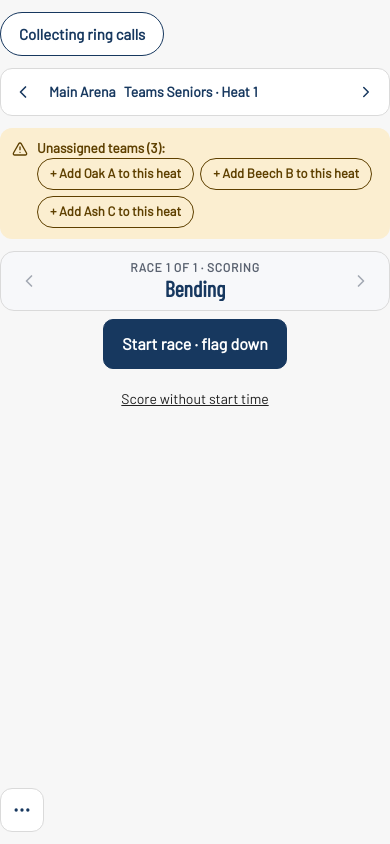
Test case: SessionPage › who may score › shows the scoring view, the organiser tools, and no score record or sign-off, to someone who can manage this competition
The image size is (390, 844).
Expected: the button "Set up heats" is not shown
Click the button named "Race tools" at (22, 810), box [0,788,44,832]
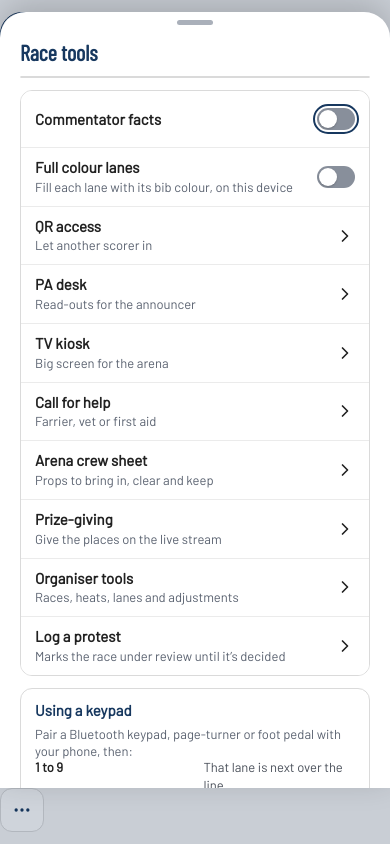
Click the button "Organiser tools Races, heats, lanes and adjustments" at (195, 587), box [21,558,369,616]
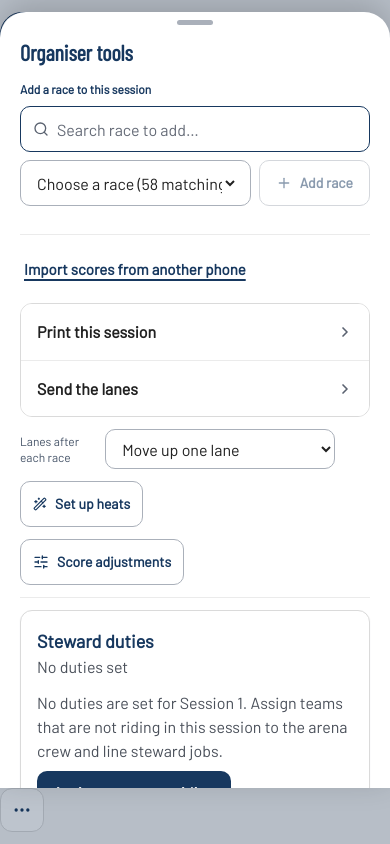
Result: the button "Set up heats" is shown at [20,481,143,527]
